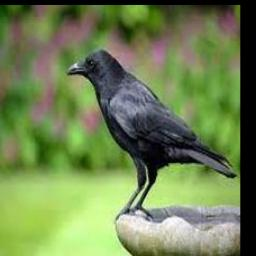Crow: (66, 47, 238, 219)
